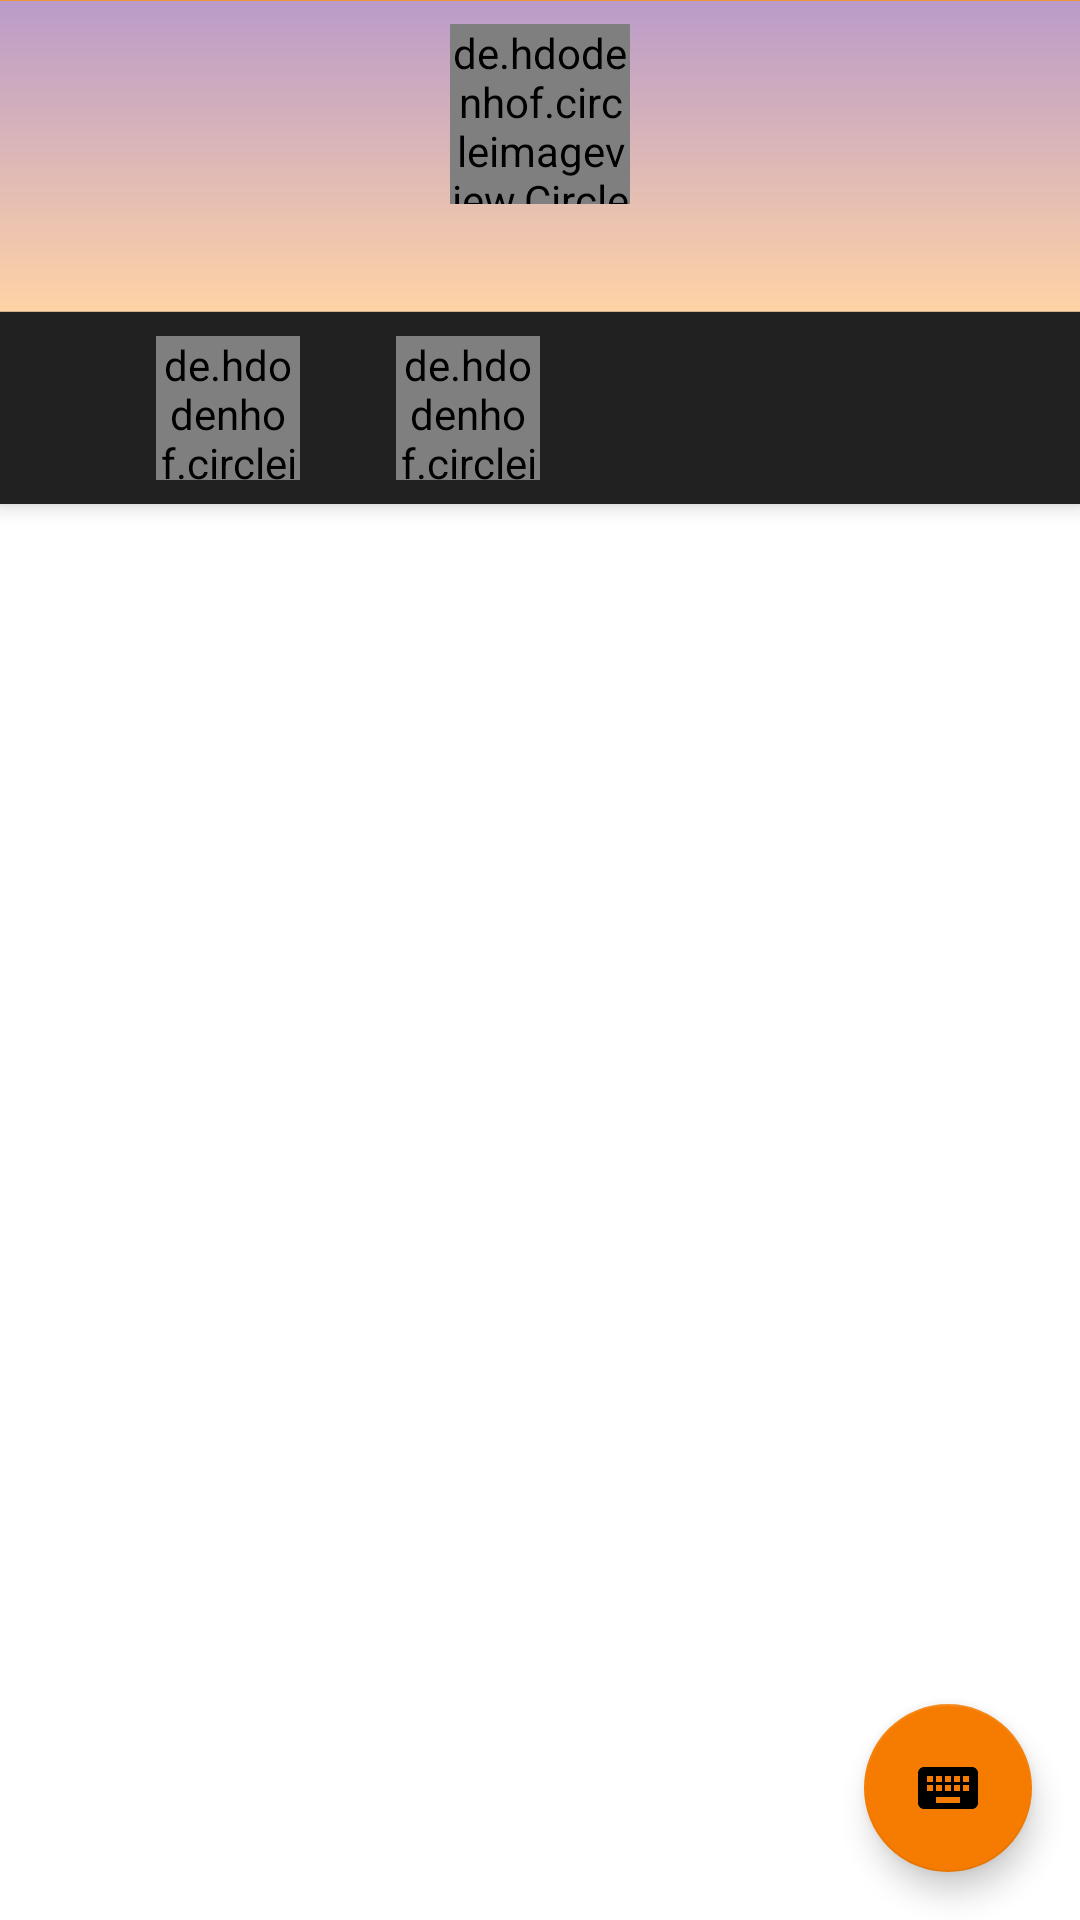

Named icons in this screenshot (1080 x 1920) and their centers, (x=x, y=y):
keyboard: (x=948, y=1788)
